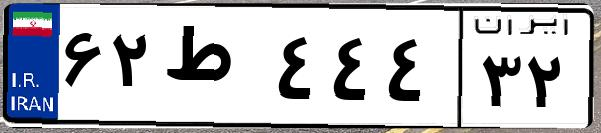2: (525, 38, 570, 115), (110, 28, 158, 98)
3: (475, 38, 525, 113)
4: (270, 28, 330, 110), (385, 28, 445, 110), (330, 28, 385, 110)
6: (57, 26, 110, 100)
ط: (158, 20, 270, 120)
